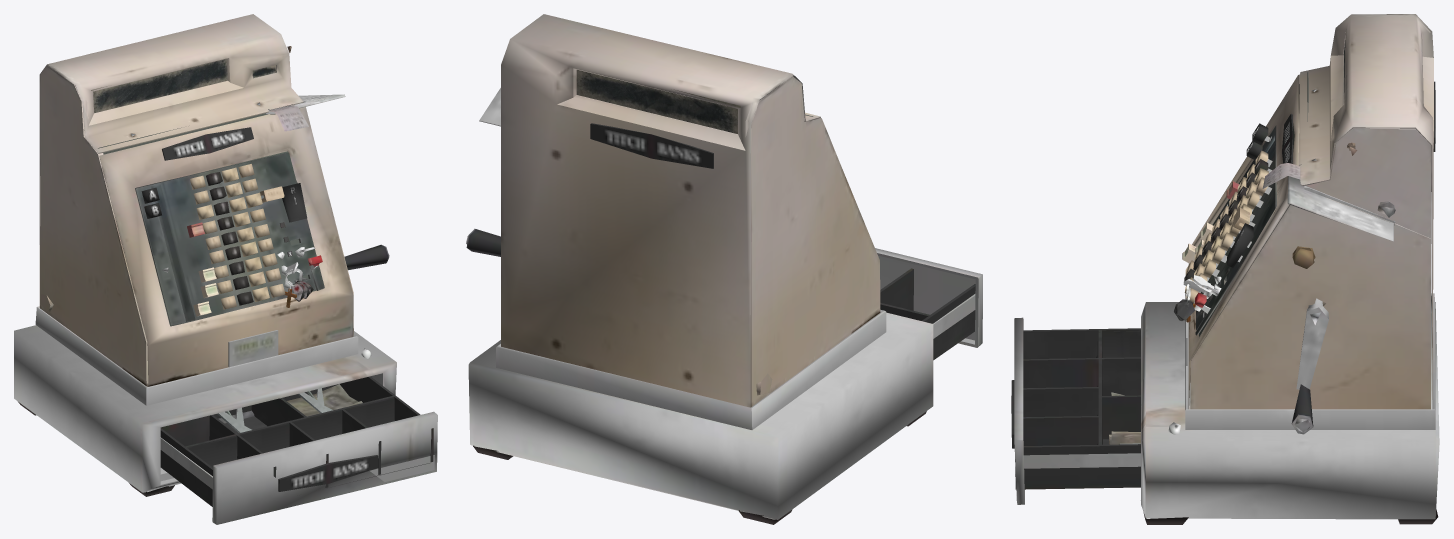
File: register.glb
3 views of the same model, side by side, from view 1: azimuth 30°, elevation 25°; view 2: azimuth 150°, elevation 25°; view 3: azimuth 270°, elevation 25° (orthographic). The views are drawn at different scales.
Parts seen in each view (by area): view 1: CashRegister_01_body, CashRegister_011_drawer; view 2: CashRegister_01_body, CashRegister_011_drawer; view 3: CashRegister_01_body, CashRegister_011_drawer.
Boxes of the visible parts, x1=… form: CashRegister_01_body: x1=14, y1=14, x2=396, y2=496; CashRegister_011_drawer: x1=160, y1=376, x2=437, y2=524; CashRegister_01_body: x1=466, y1=14, x2=933, y2=524; CashRegister_011_drawer: x1=875, y1=248, x2=982, y2=360; CashRegister_01_body: x1=1141, y1=14, x2=1439, y2=524; CashRegister_011_drawer: x1=1011, y1=317, x2=1140, y2=504.
Bounding box in the file's own units: 0.5941 × 0.6197 × 0.6227.
2 materials, 2 textured.
